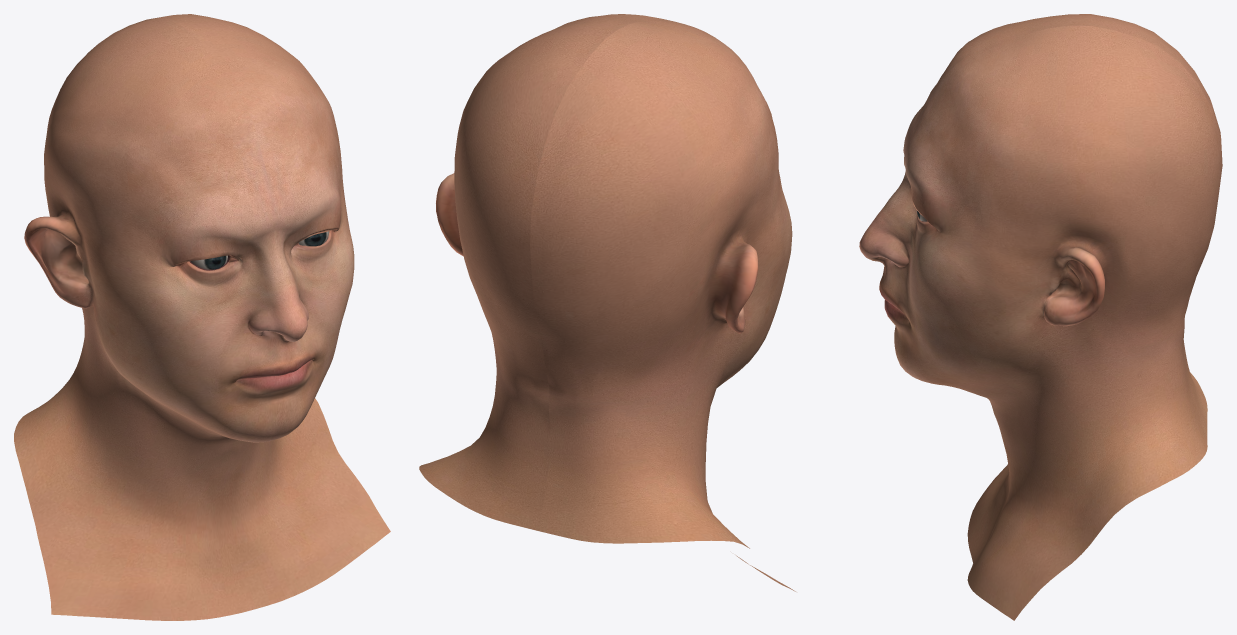
The model's file is head_1005.glb.
3 renders of one model, left to right at view 1: azimuth 30°, elevation 25°; view 2: azimuth 150°, elevation 25°; view 3: azimuth 270°, elevation 25°, orthographic. The views are drawn at different scales.
Parts seen in each view (by area): view 1: head; view 2: head; view 3: head.
Part boxes in pixels (bbox=[...]): head: bbox=[14, 14, 390, 620]; head: bbox=[419, 14, 795, 591]; head: bbox=[859, 14, 1222, 620].
Size of the model in its own units: 0.2297 by 0.3525 by 0.2162.
3 materials, 2 textured.
